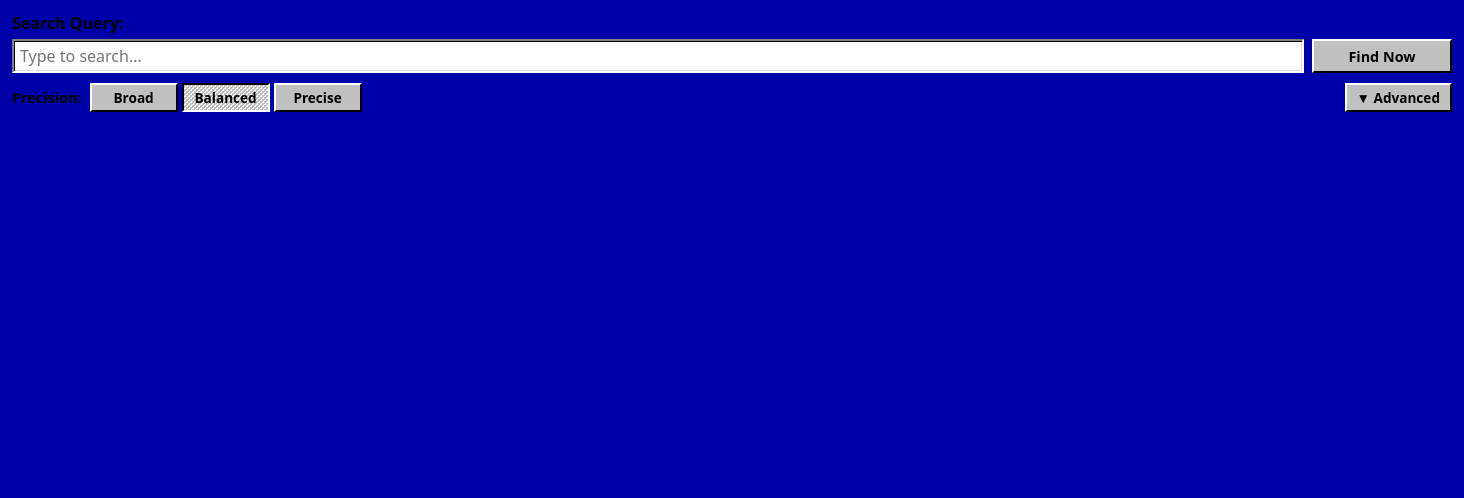
Test case: SearchSection Component › should scope the syntax help to the active mode
Click the button "▼ Advanced": (1398, 98) [1344,83,1452,112]
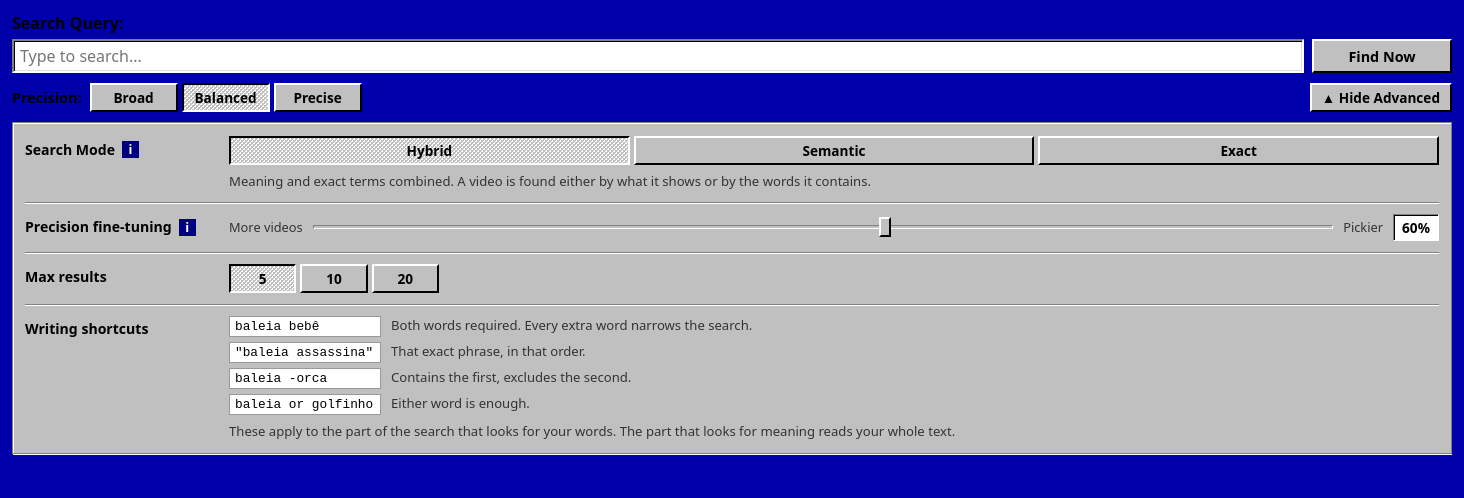
Check: the text "the part of the search that looks for your words" is shown, box [229,422,955,440]
Check: the text "baleia -orca" is shown, box [229,368,381,389]
Click the button "Exact": (1239, 151) [1038,136,1439,165]
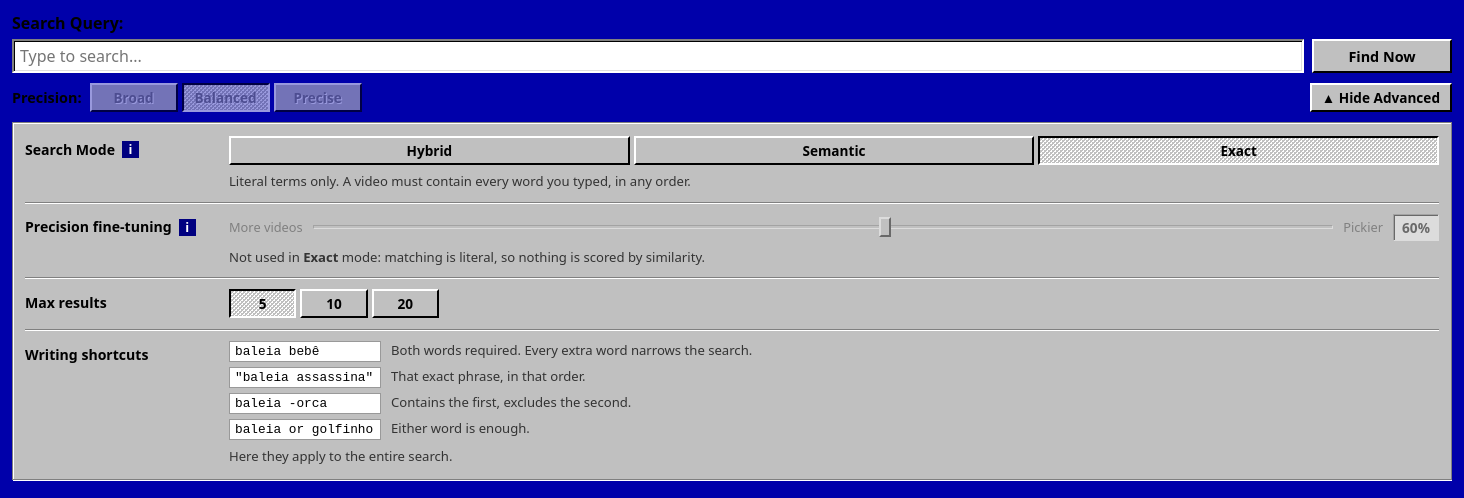
Check: the text "baleia -orca" is shown, box [229,393,381,414]
Check: the text "Here they apply to the entire search." is shown, box [229,447,452,465]
Click the button "Semantic": (834, 151) [634,136,1034,165]
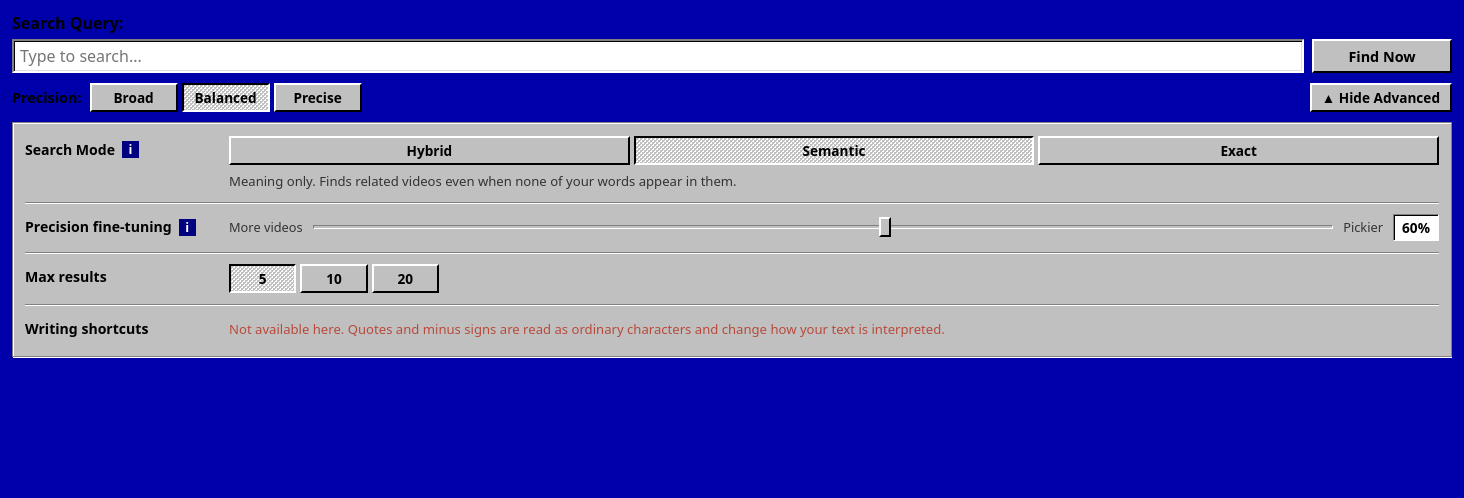
Check: the text "read as ordinary characters" is shown, box [229,320,945,338]
Check: the text "baleia -orca" is gone
